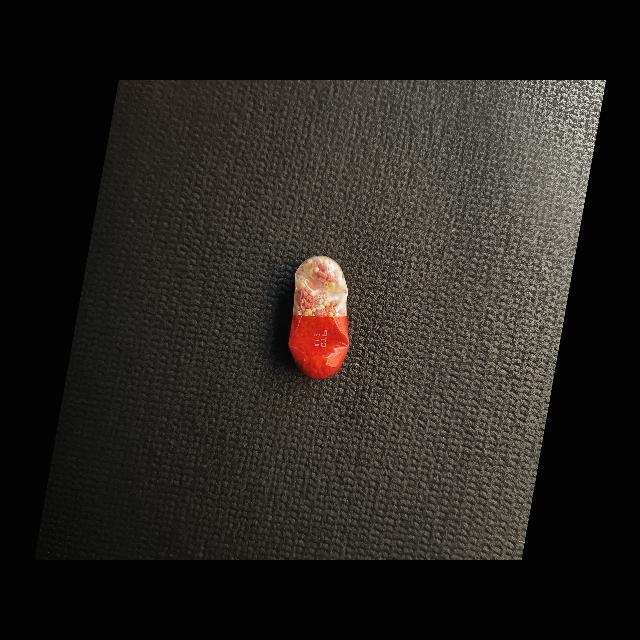Defective Capsule: (289, 255, 349, 379)
